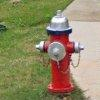a fire hydrant: (38, 18, 78, 100)
